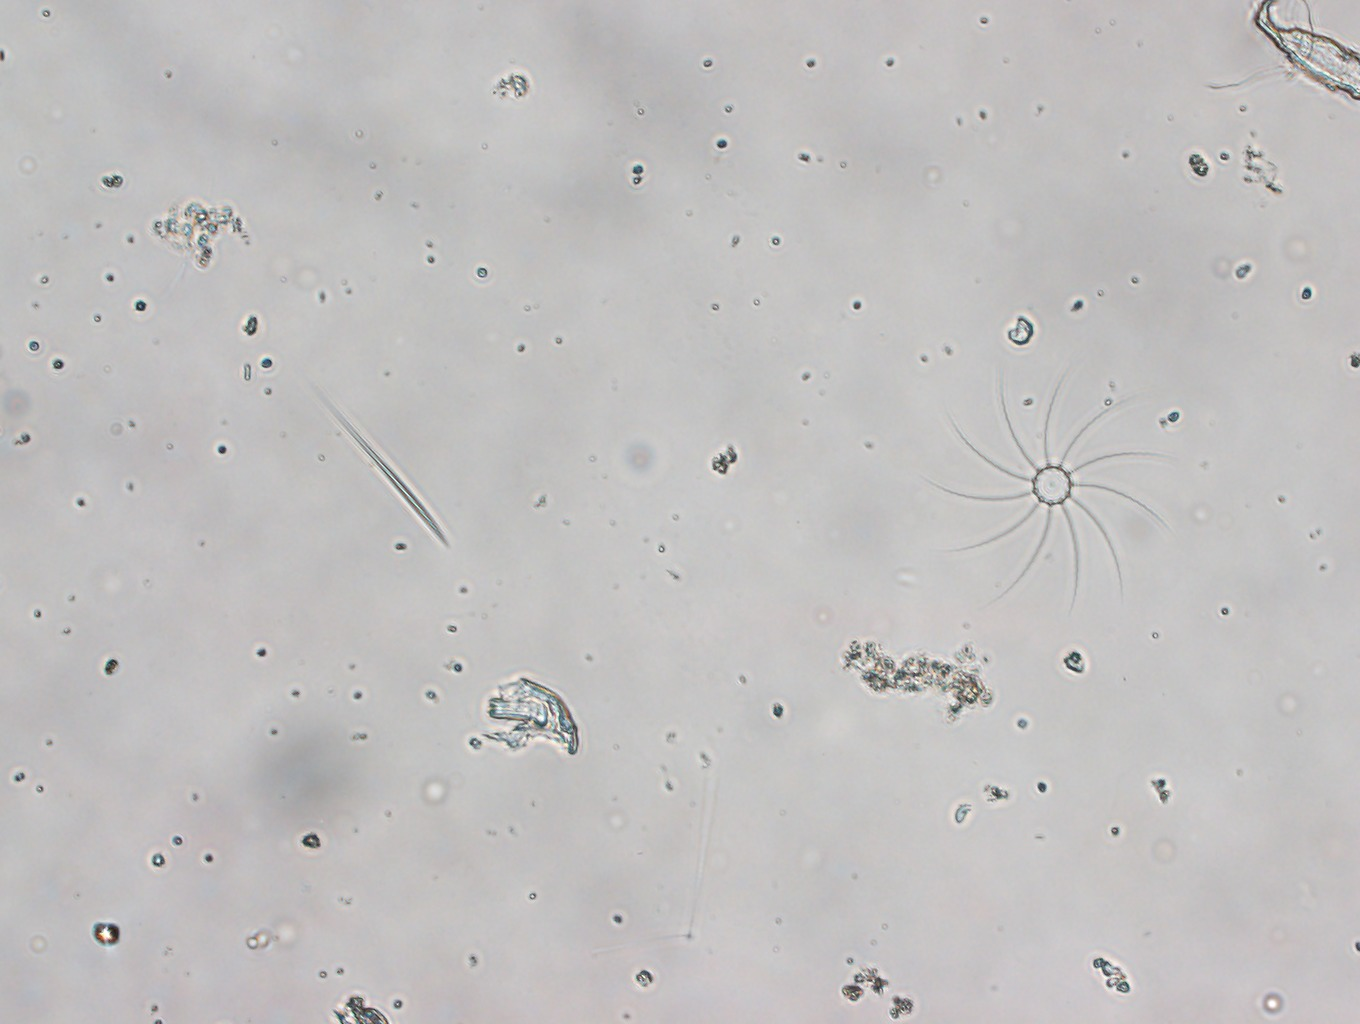bacteriastrum: (924, 361, 1170, 614)
